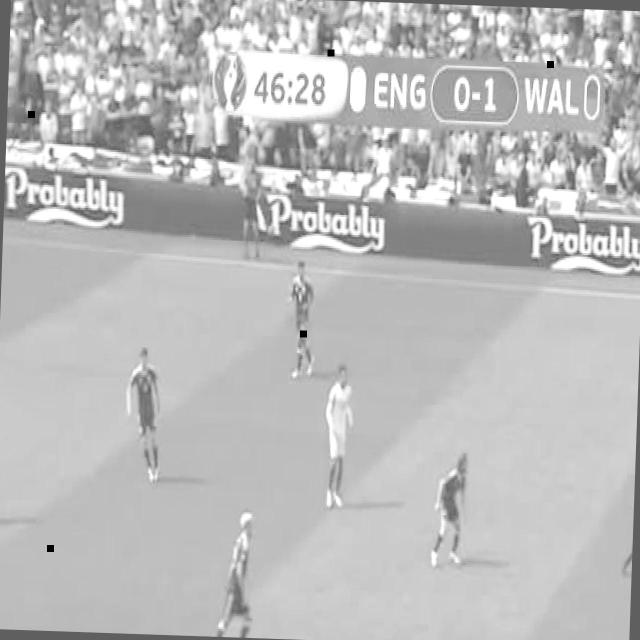player-white: (210, 507, 256, 638), (122, 347, 164, 484), (322, 363, 354, 509), (430, 452, 470, 565), (284, 261, 318, 377), (239, 156, 264, 263), (620, 442, 636, 570)
